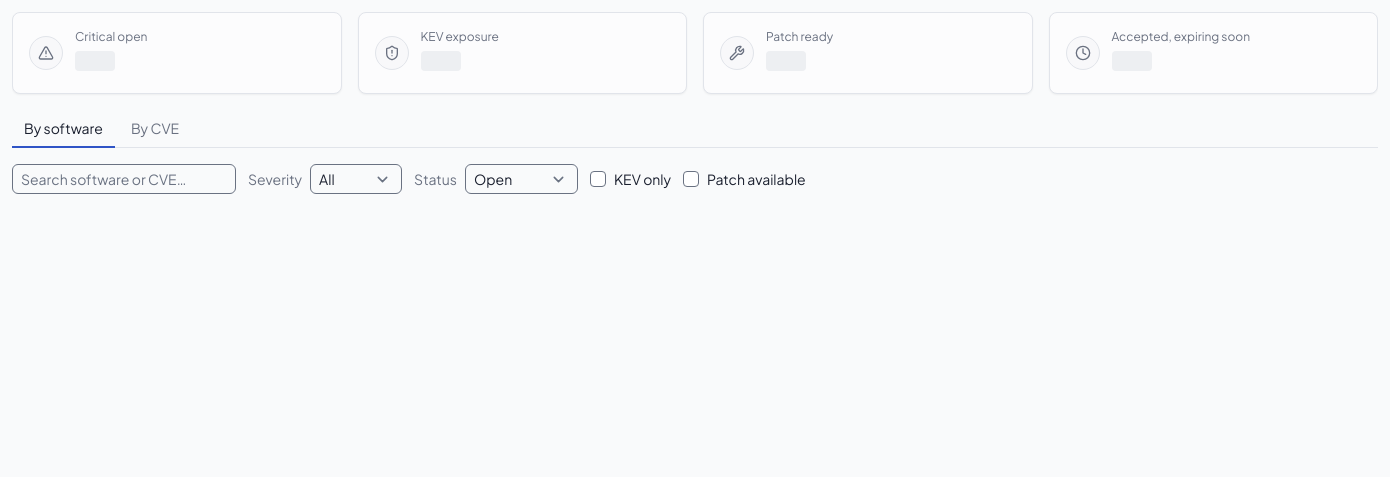
it: VulnerabilityFleetPage › drops the expiring-soon window when the status filter changes
Click the button with test id "vuln-stat-accepted-expiring" at (1213, 53), box [1048,12,1378,94]
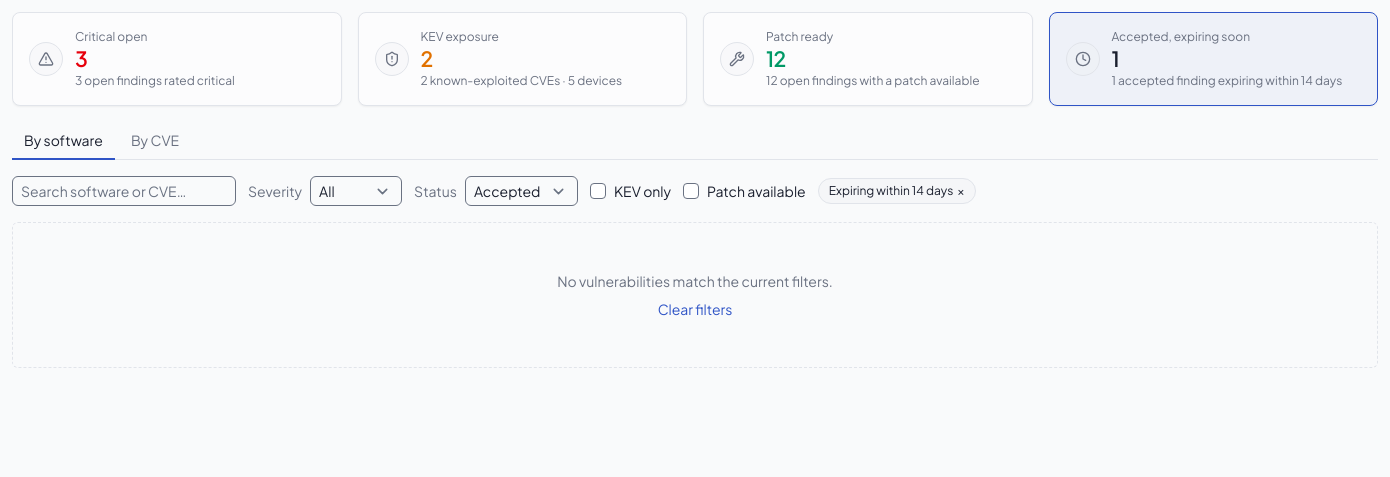
Check: the button with test id "vuln-filter-expiring-clear" is shown, box [818,178,976,204]
Select "Open" in the dropdown with test id "vuln-filter-status" at (521, 191), box [465,176,578,206]
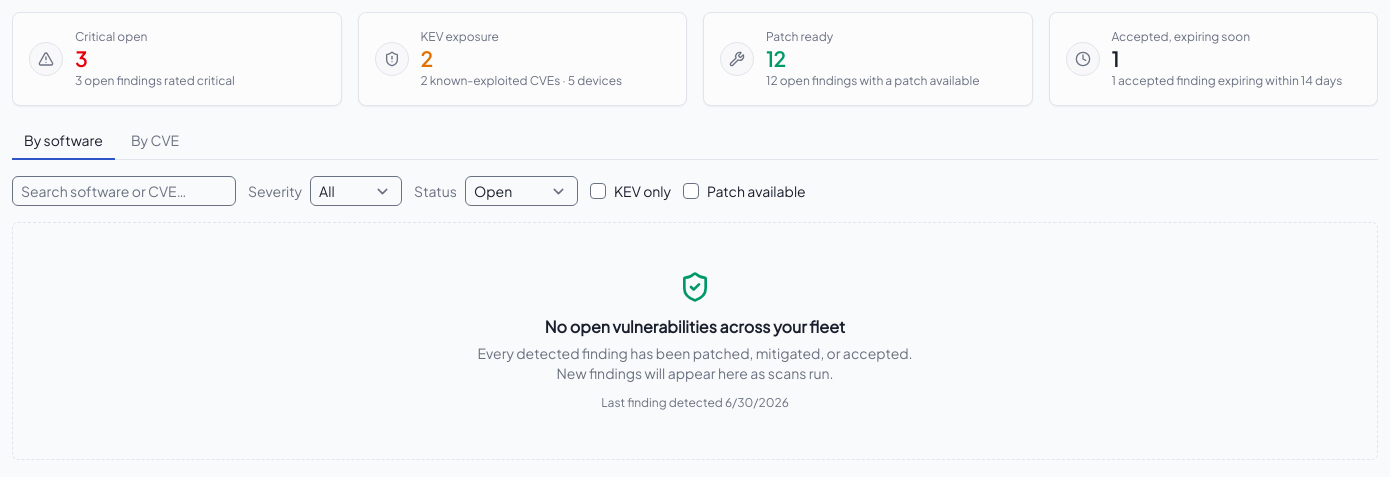
Check: the button with test id "vuln-filter-expiring-clear" is gone
